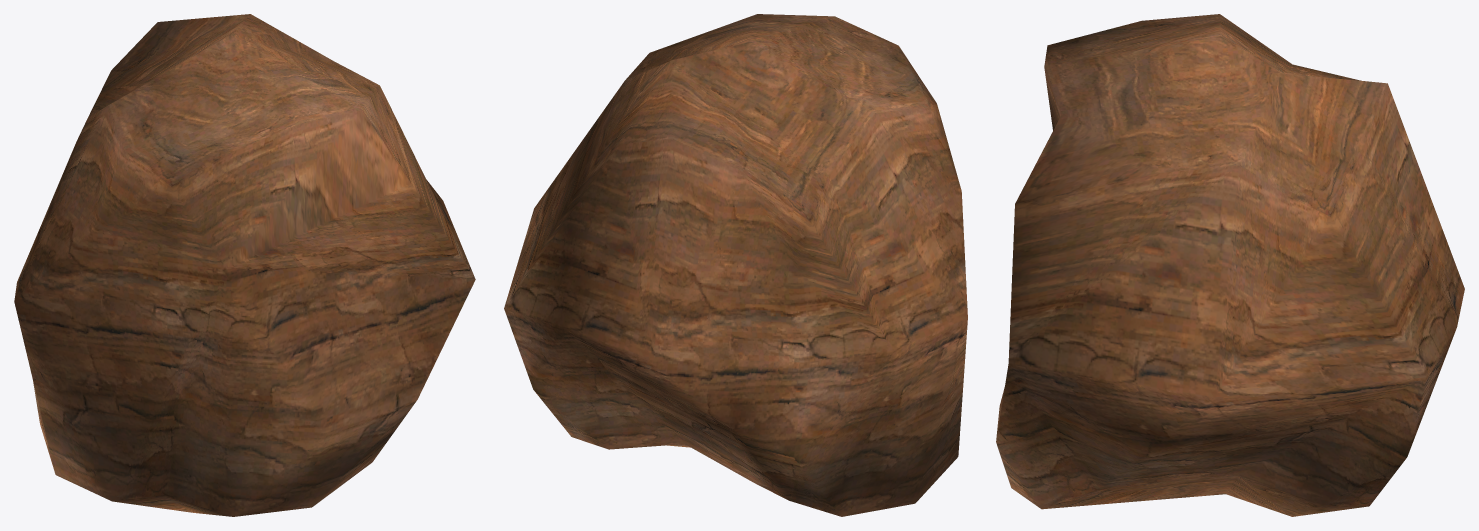
The model's file is rock_tatt_jundland_boulder_l1.fbx.
The picture shows the model from 3 angles, left to right: view 1: azimuth 30°, elevation 25°; view 2: azimuth 150°, elevation 25°; view 3: azimuth 270°, elevation 25°; orthographic projection. The views are drawn at different scales.
Parts seen in each view (by area): view 1: mesh_node; view 2: mesh_node; view 3: mesh_node.
Boxes of the visible parts, left/top/right/bottom form: mesh_node: left=14, top=14, right=475, bottom=516; mesh_node: left=504, top=14, right=967, bottom=516; mesh_node: left=996, top=14, right=1464, bottom=516.
Size of the model in its own units: 2.71 by 2.56 by 2.27.
